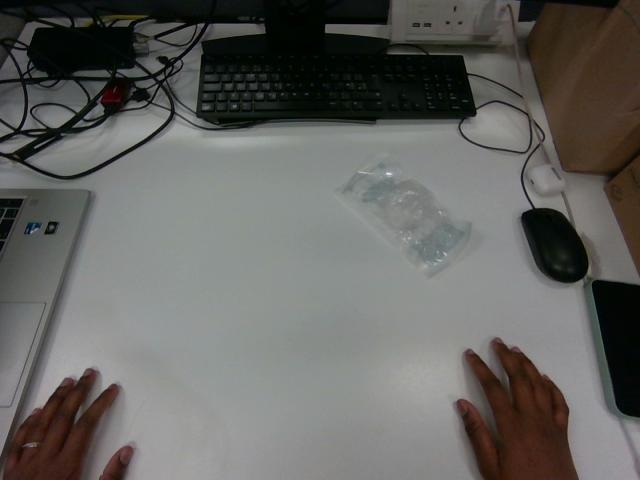gallipot: (337, 161, 470, 276)
